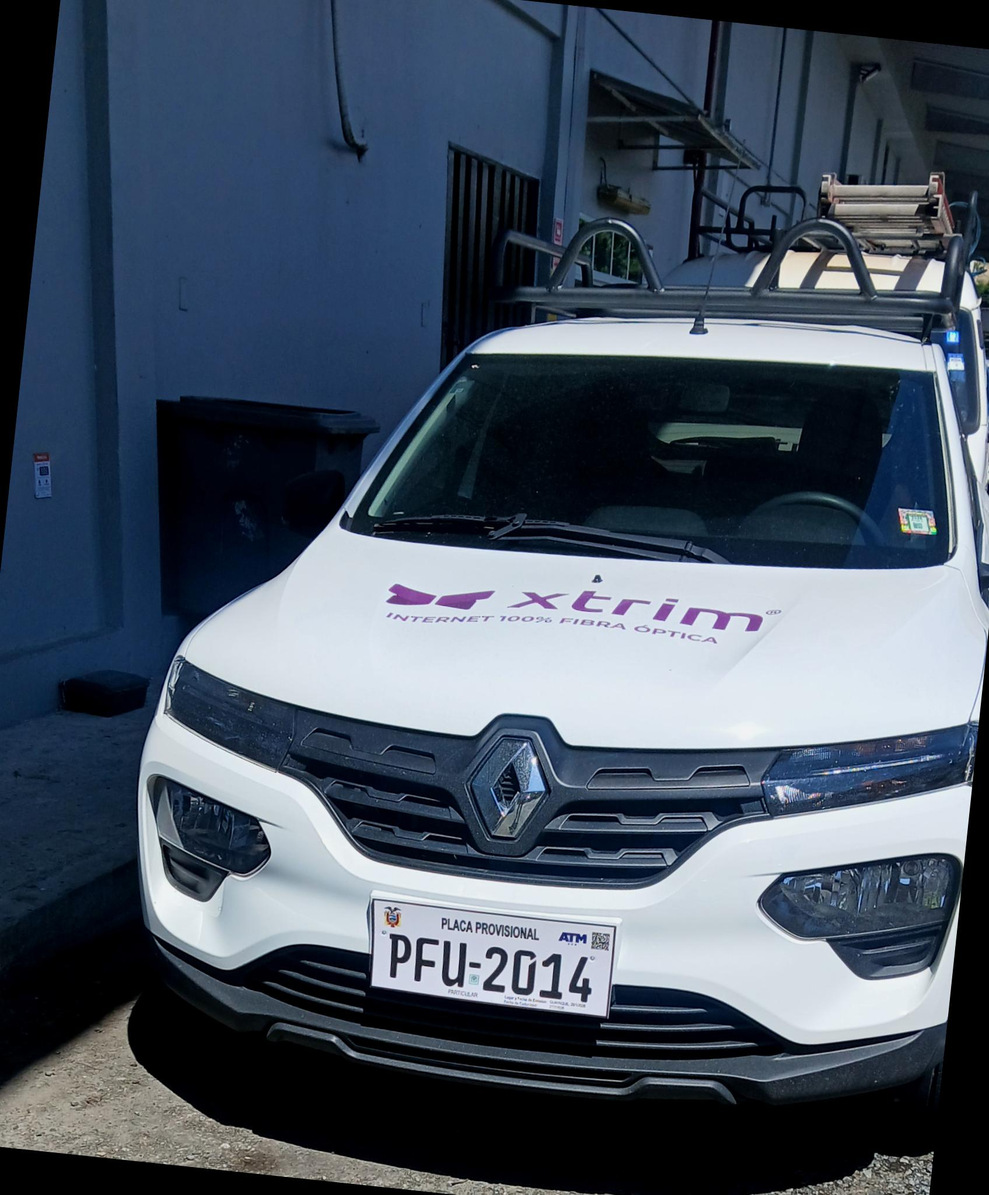license_plate: (361, 895, 614, 1020)
